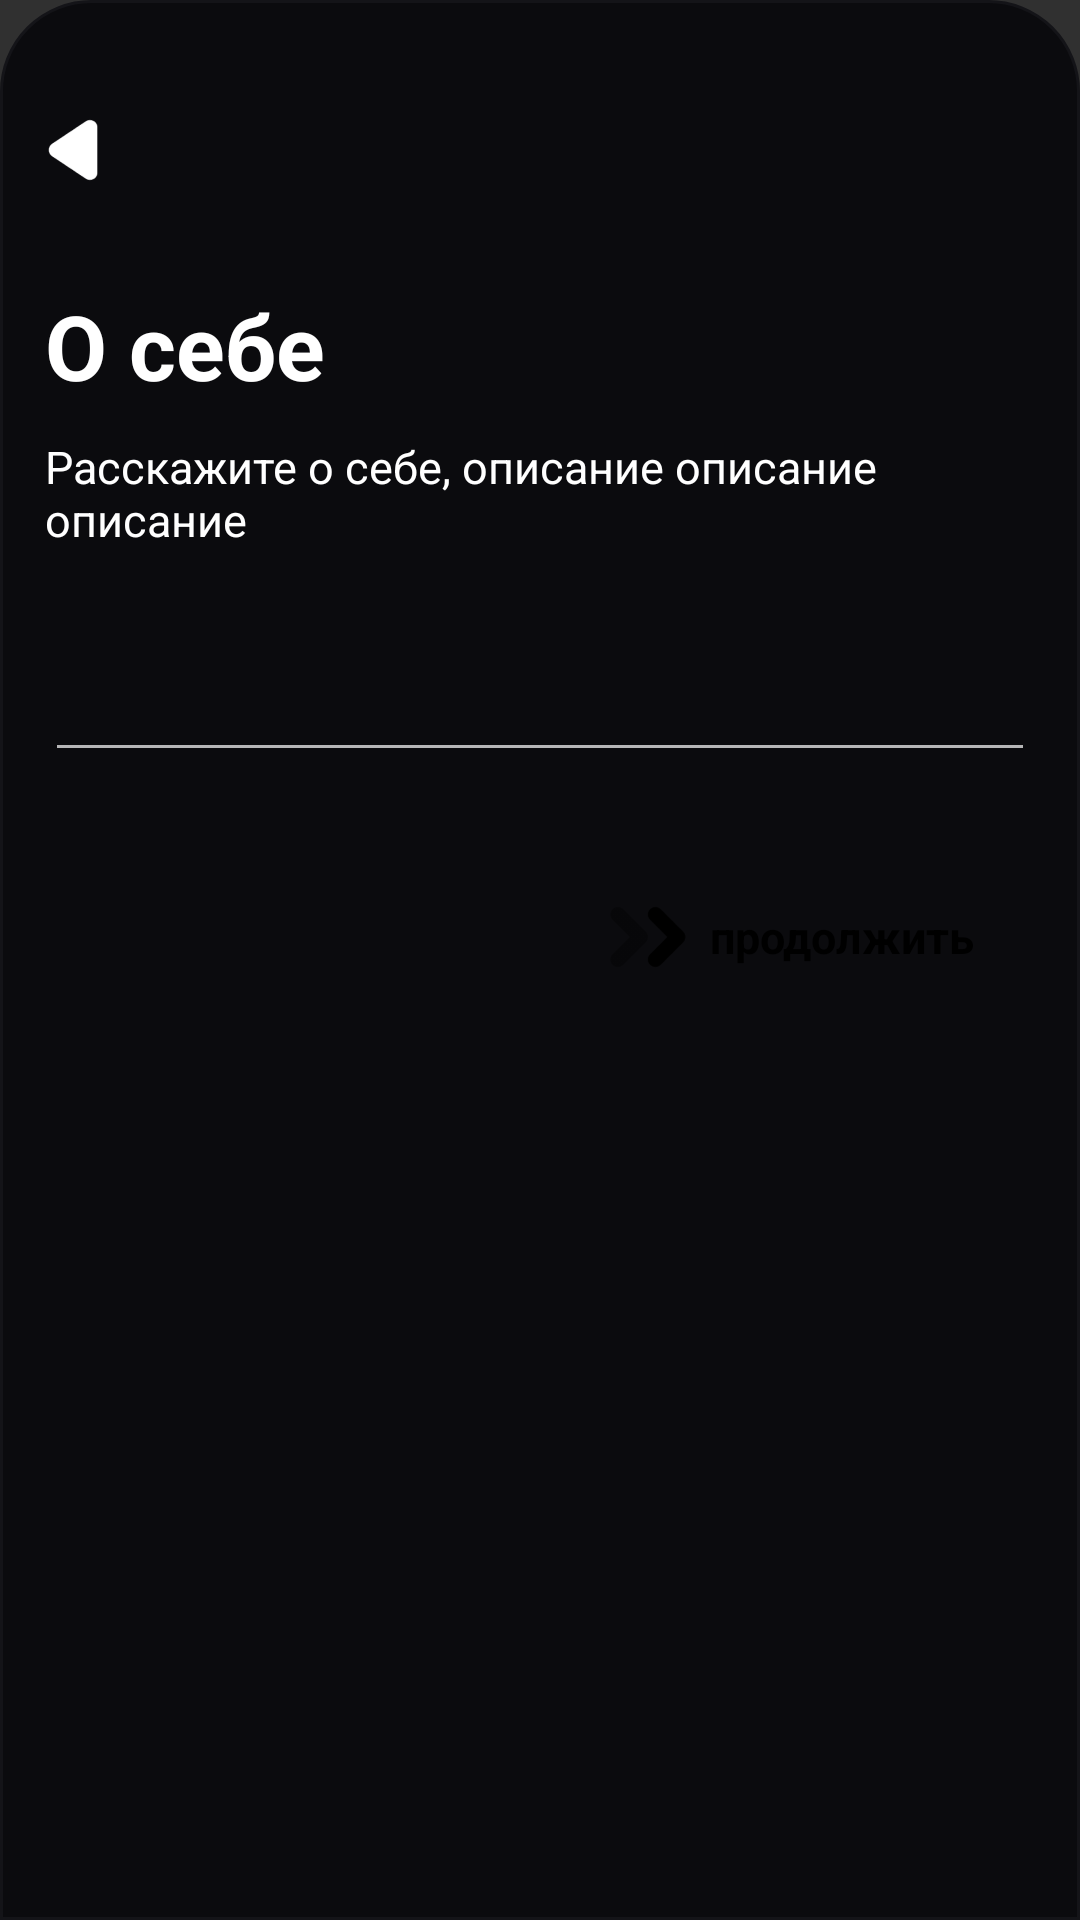

Point at icon controls on the screen. Image size 1080x1920, points as (x=x, y=y).
back: (x=73, y=150)
